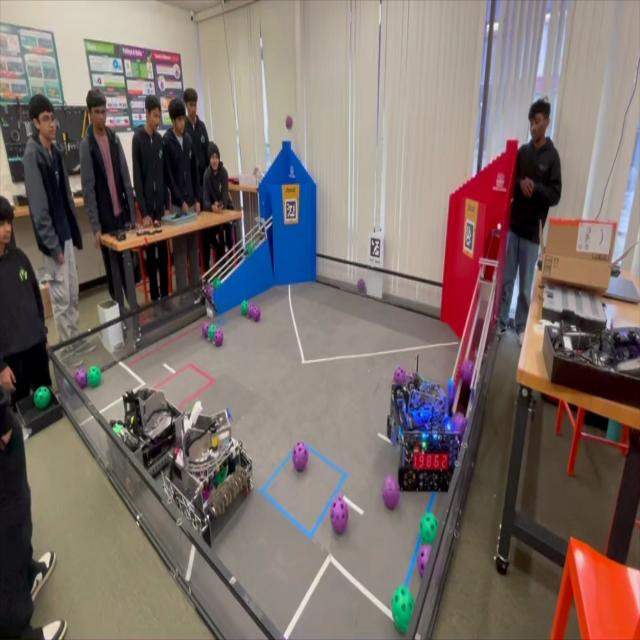artifact_green: (392, 586, 414, 633), (421, 513, 438, 544), (34, 386, 51, 410), (214, 464, 228, 487), (88, 367, 101, 387), (214, 330, 223, 347), (202, 321, 210, 339), (208, 325, 216, 342), (112, 422, 123, 434), (246, 241, 254, 255), (241, 301, 248, 316), (213, 277, 221, 289)
artifact_purple: (331, 497, 348, 535), (382, 476, 400, 510), (292, 441, 308, 471), (417, 545, 430, 577), (451, 412, 466, 434), (461, 359, 473, 385), (74, 367, 88, 389), (394, 367, 406, 384), (214, 329, 224, 347), (205, 283, 213, 302), (248, 303, 256, 320), (285, 114, 293, 130), (202, 322, 210, 338), (357, 279, 366, 293), (253, 306, 260, 321), (202, 488, 209, 501)
